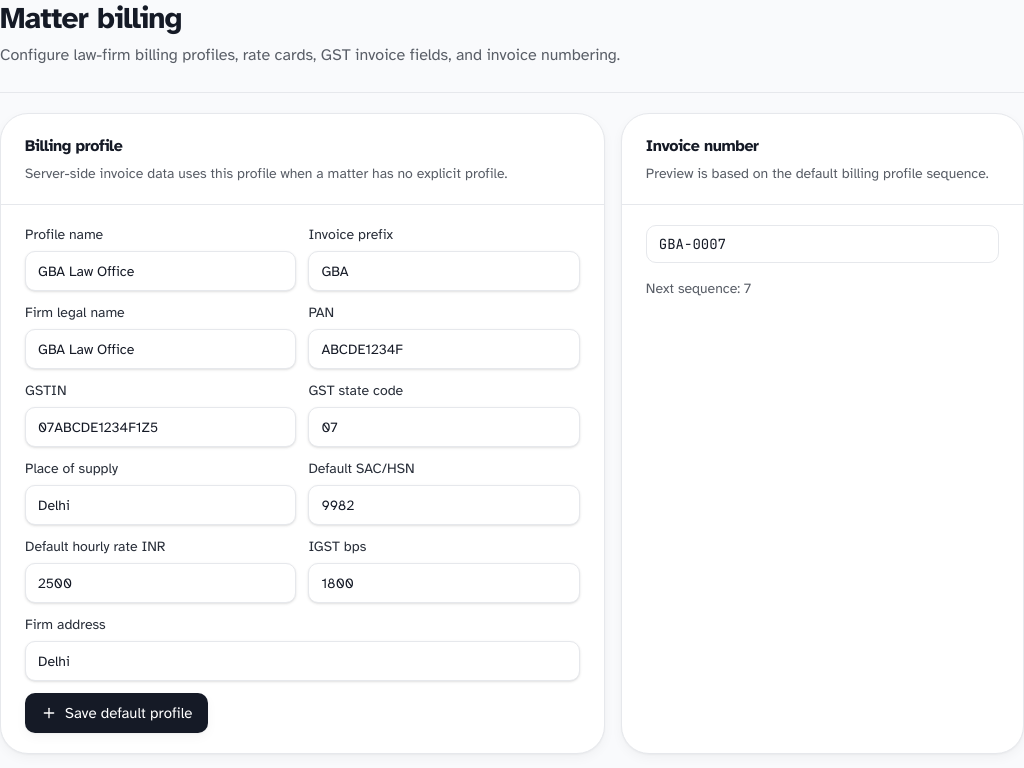
Test: AdminMatterBillingPage › does not let a stale background read erase a saved profile
Step 1. Click the button "Save default profile" → (117, 713), box [25,693,208,733]
(page scrolled)
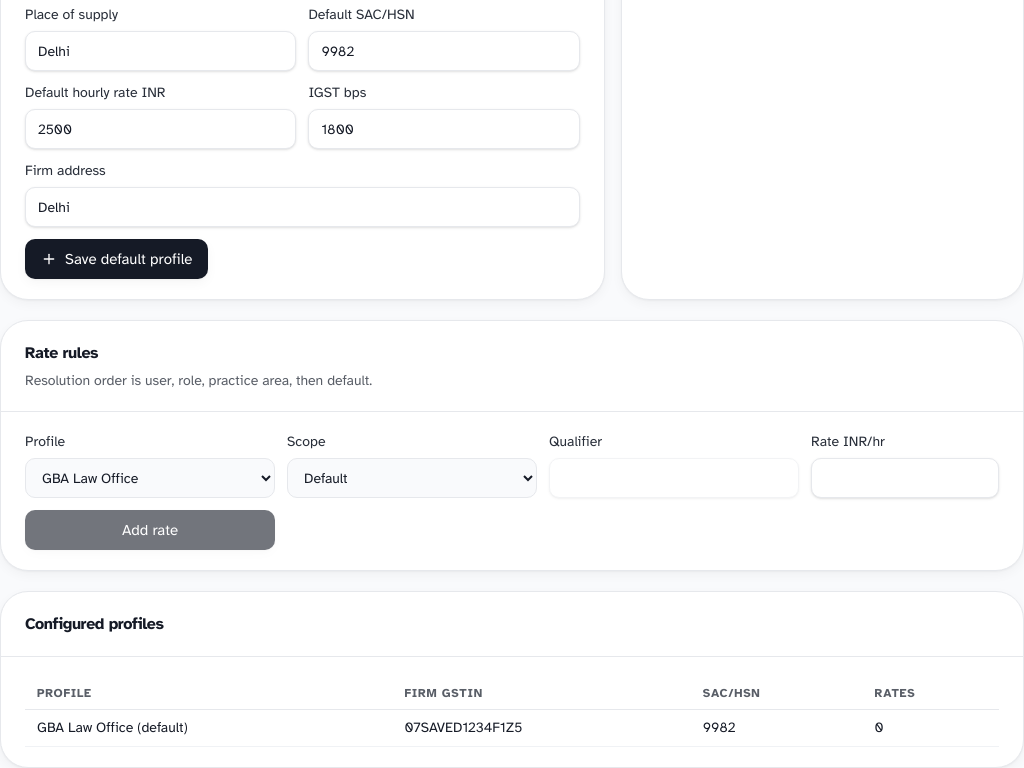
Expected: the text "07SAVED1234F1Z5" is shown, [392,710,691,746]
